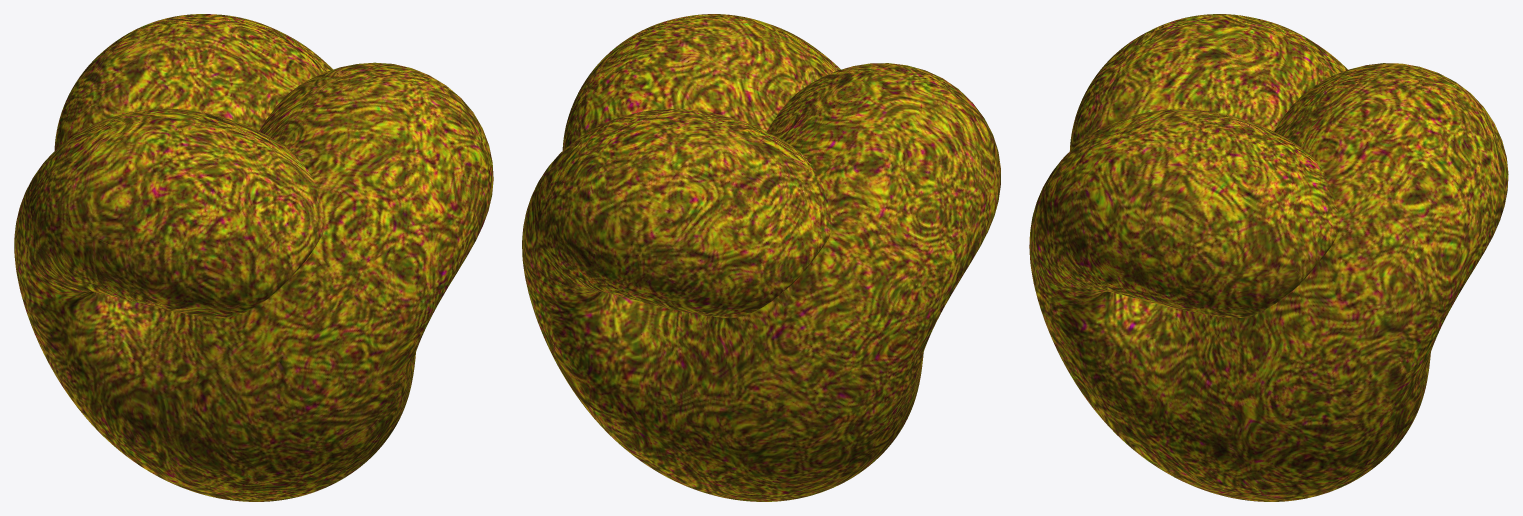
3 renders of one model, left to right at view 1: azimuth 30°, elevation 25°; view 2: azimuth 150°, elevation 25°; view 3: azimuth 270°, elevation 25°, orthographic.
Parts seen in each view (by area): view 1: Boys Surface_2; view 2: Boys Surface_2; view 3: Boys Surface_2.
Boxes of the visible parts, <box> form: Boys Surface_2: <box>14,14,493,501</box>; Boys Surface_2: <box>522,14,1000,501</box>; Boys Surface_2: <box>1029,14,1508,501</box>.
Bounding box in the file's own units: 0.9111 × 0.8696 × 0.925.
1 material, 1 textured.
